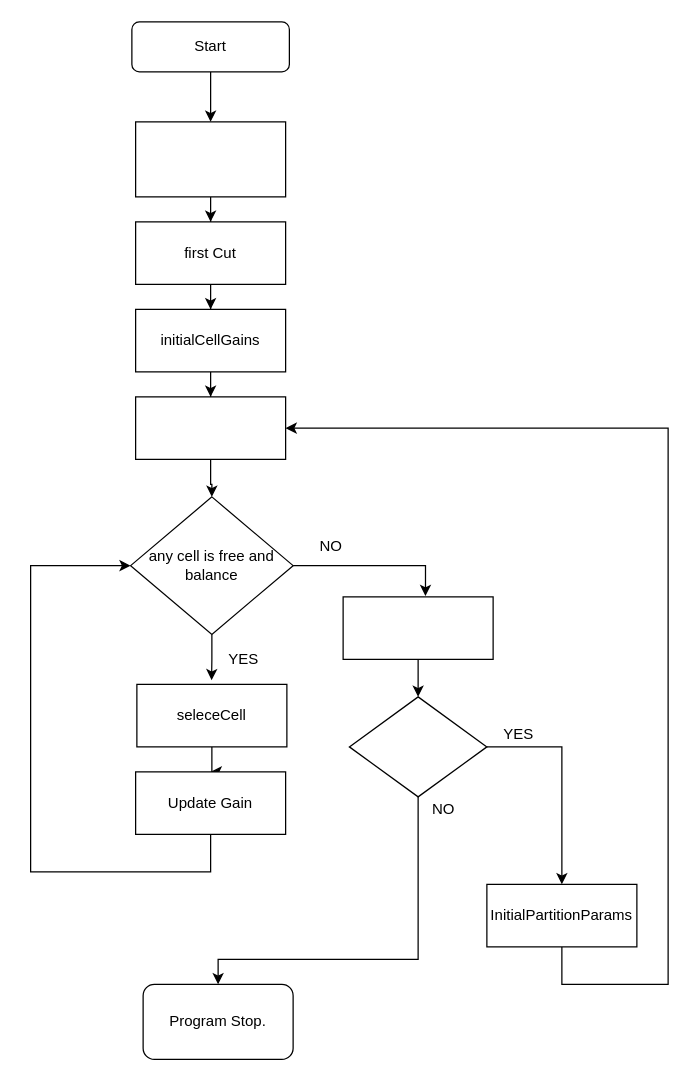
Image size: 700x1081. Some labels were removed from this diagram. The shapes that lost their labels are listed below. From the top down, each one's box as (x1, y1, x2, y2) in pixels, then its label:
(134, 121, 286, 197): preprocessing
(134, 396, 286, 459): FM
(342, 596, 493, 659): backToBest
(348, 696, 487, 797): maxAccGain > 0
